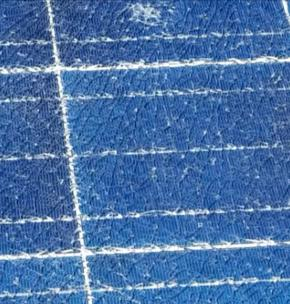Crack: (112, 0, 188, 44)
